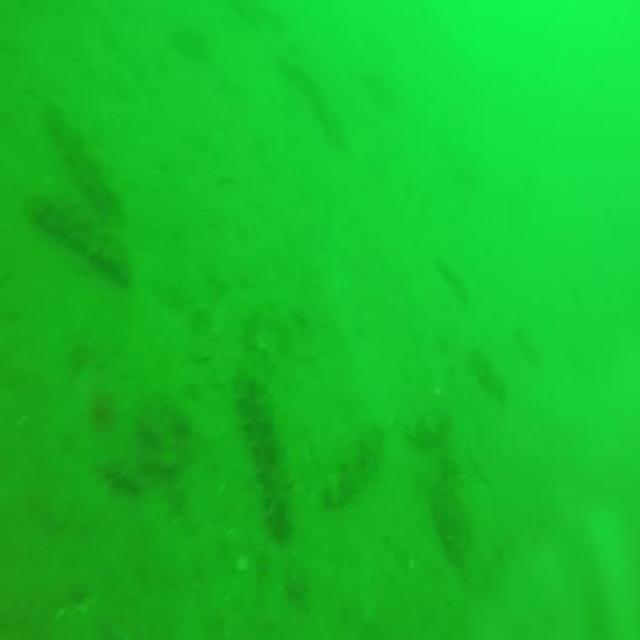holothurian: (235, 367, 292, 540), (43, 90, 121, 213), (32, 186, 126, 276), (323, 400, 382, 506), (433, 458, 470, 577)
